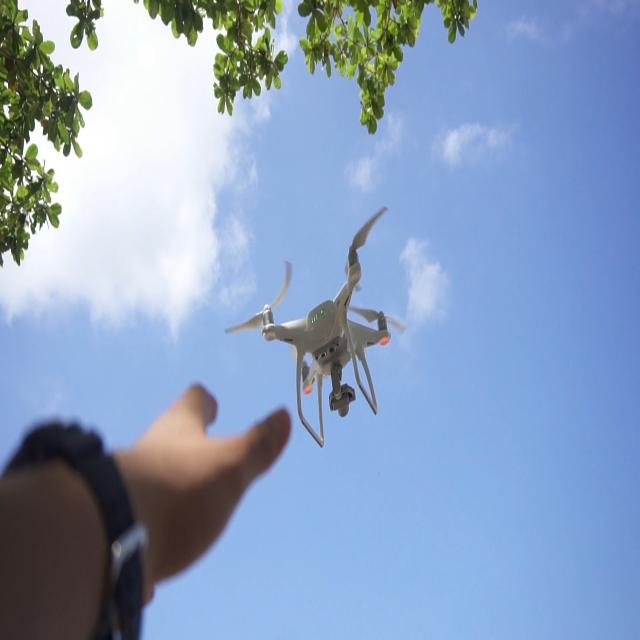Drone: (254, 250, 382, 442)
